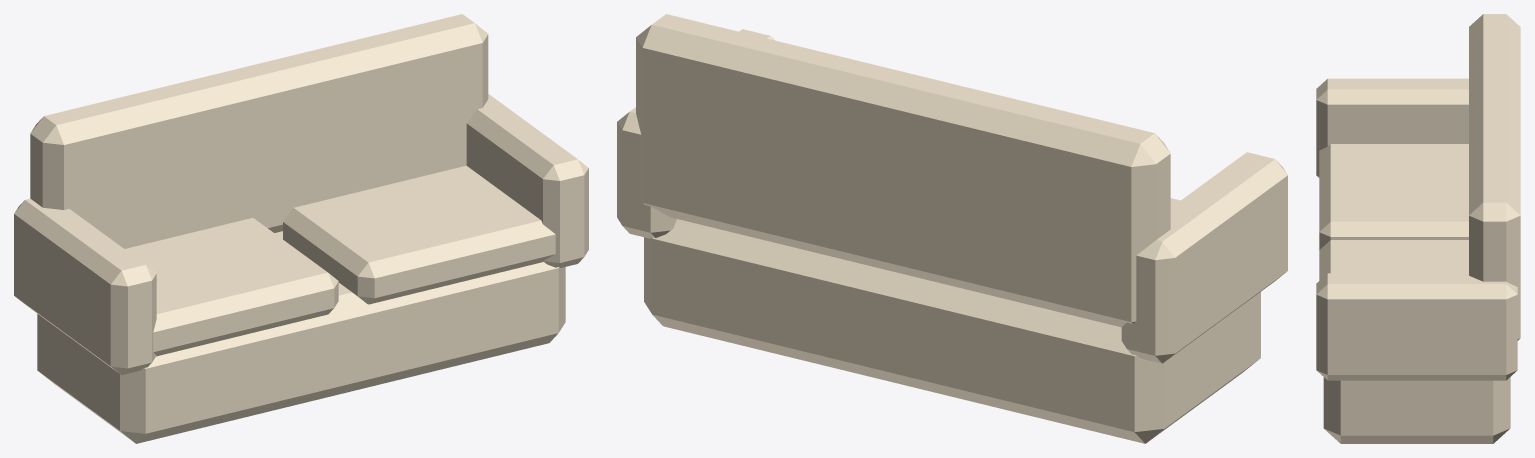
3 renders of one model, left to right at view 1: azimuth 30°, elevation 25°; view 2: azimuth 150°, elevation 25°; view 3: azimuth 270°, elevation 25°, orthographic. The views are drawn at different scales.
Parts seen in each view (by area): view 1: Back, Base, Seat cushion.001, Seat cushion, Arm, Arm.001; view 2: Back, Base, Arm, Arm.001; view 3: Arm.001, Seat cushion, Back, Base, Arm, Seat cushion.001.
Part boxes in pixels (bbox=[...]): Back: bbox=[30, 14, 488, 248]; Base: bbox=[37, 231, 565, 443]; Seat cushion.001: bbox=[283, 165, 555, 304]; Seat cushion: bbox=[125, 218, 338, 356]; Arm: bbox=[14, 198, 156, 375]; Arm.001: bbox=[466, 94, 588, 267]; Back: bbox=[636, 14, 1170, 327]; Base: bbox=[644, 219, 1260, 443]; Arm: bbox=[1121, 152, 1287, 363]; Arm.001: bbox=[617, 29, 774, 238]; Arm.001: bbox=[1316, 273, 1517, 380]; Seat cushion: bbox=[1319, 144, 1468, 249]; Back: bbox=[1469, 14, 1520, 340]; Base: bbox=[1323, 377, 1510, 443]; Arm: bbox=[1316, 78, 1468, 177]; Seat cushion.001: bbox=[1319, 240, 1468, 280].
Bounding box in the file's own units: 177 × 93 × 71.
